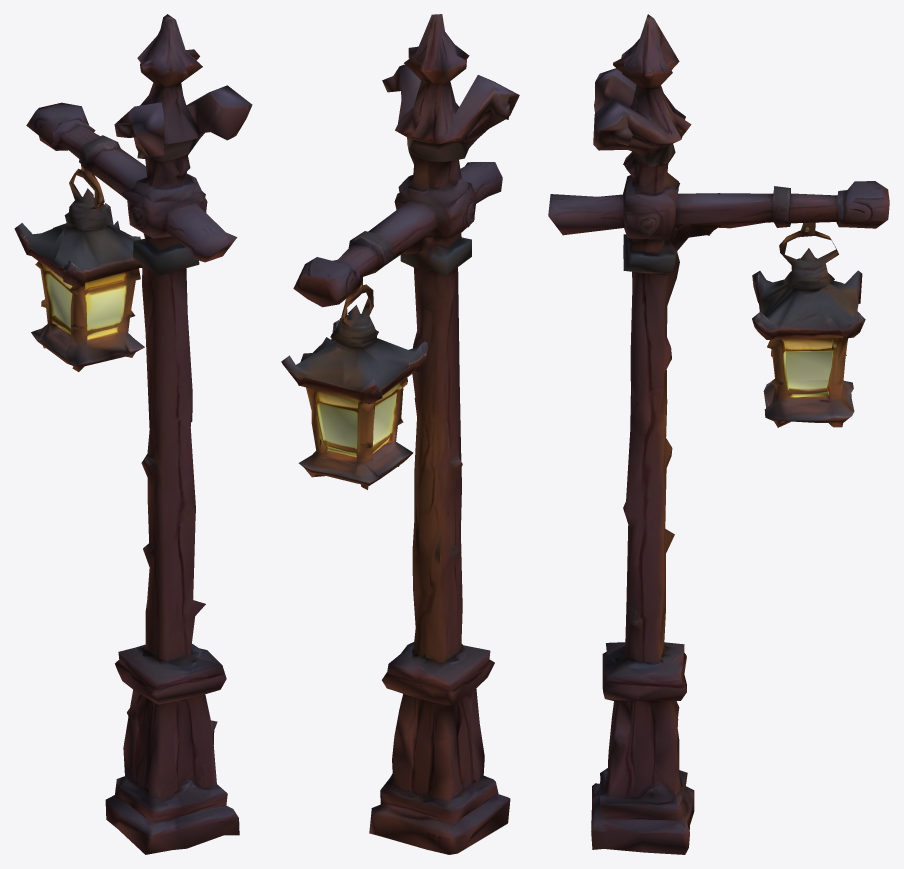
Rendered from decor_lantern.glb.
3 renders of one model, left to right at view 1: azimuth 30°, elevation 25°; view 2: azimuth 150°, elevation 25°; view 3: azimuth 270°, elevation 25°, orthographic.
Visible parts, largest first — view 1: tripo_node_06801c83-fd10-4e4d-960c-d03b6ed8b16c; view 2: tripo_node_06801c83-fd10-4e4d-960c-d03b6ed8b16c; view 3: tripo_node_06801c83-fd10-4e4d-960c-d03b6ed8b16c.
Part boxes in pixels (left/top/right/bottom): tripo_node_06801c83-fd10-4e4d-960c-d03b6ed8b16c: left=14, top=14, right=252, bottom=854; tripo_node_06801c83-fd10-4e4d-960c-d03b6ed8b16c: left=281, top=14, right=519, bottom=854; tripo_node_06801c83-fd10-4e4d-960c-d03b6ed8b16c: left=548, top=14, right=889, bottom=854.
Bounding box in the file's own units: 0.1586 × 0.9986 × 0.3795.
1 material, 1 textured.
